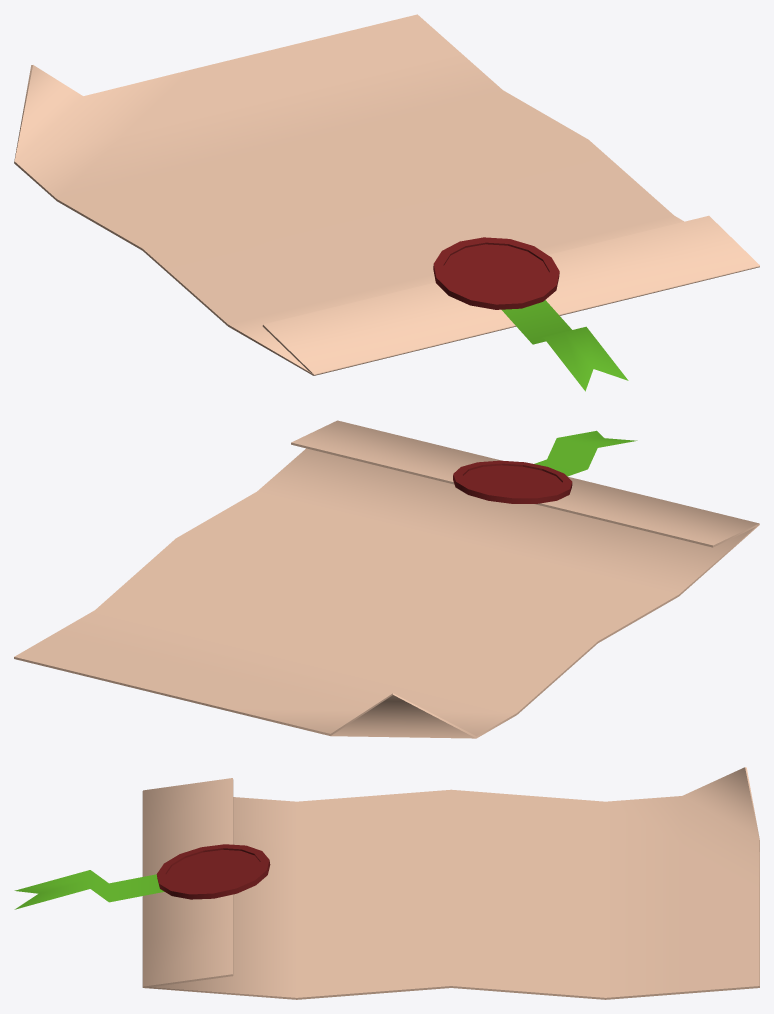
Rendered from Missive.fbx.
3 views of the same model, one above another, from view 1: azimuth 30°, elevation 25°; view 2: azimuth 150°, elevation 25°; view 3: azimuth 270°, elevation 25° (orthographic). The views are drawn at different scales.
Visible parts, largest first — view 1: Papier; view 2: Papier; view 3: Papier.
Boxes of the visible parts, box(x1,y1,x2,y2) form: Papier: box(14, 14, 759, 391); Papier: box(14, 420, 759, 738); Papier: box(14, 767, 759, 999).
Bounding box in the file's own units: 80.73 × 11.51 × 129.
